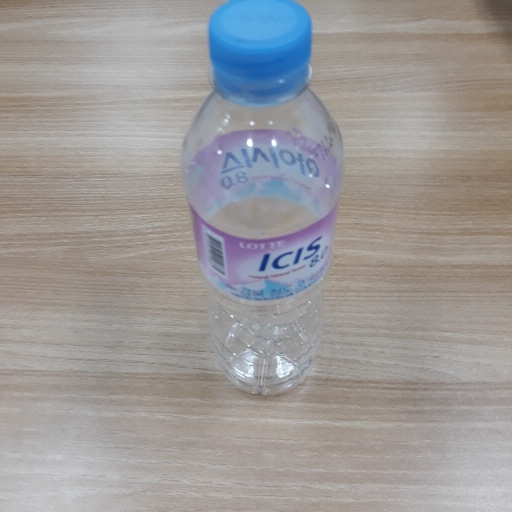Plastic_0: (170, 1, 347, 402)
